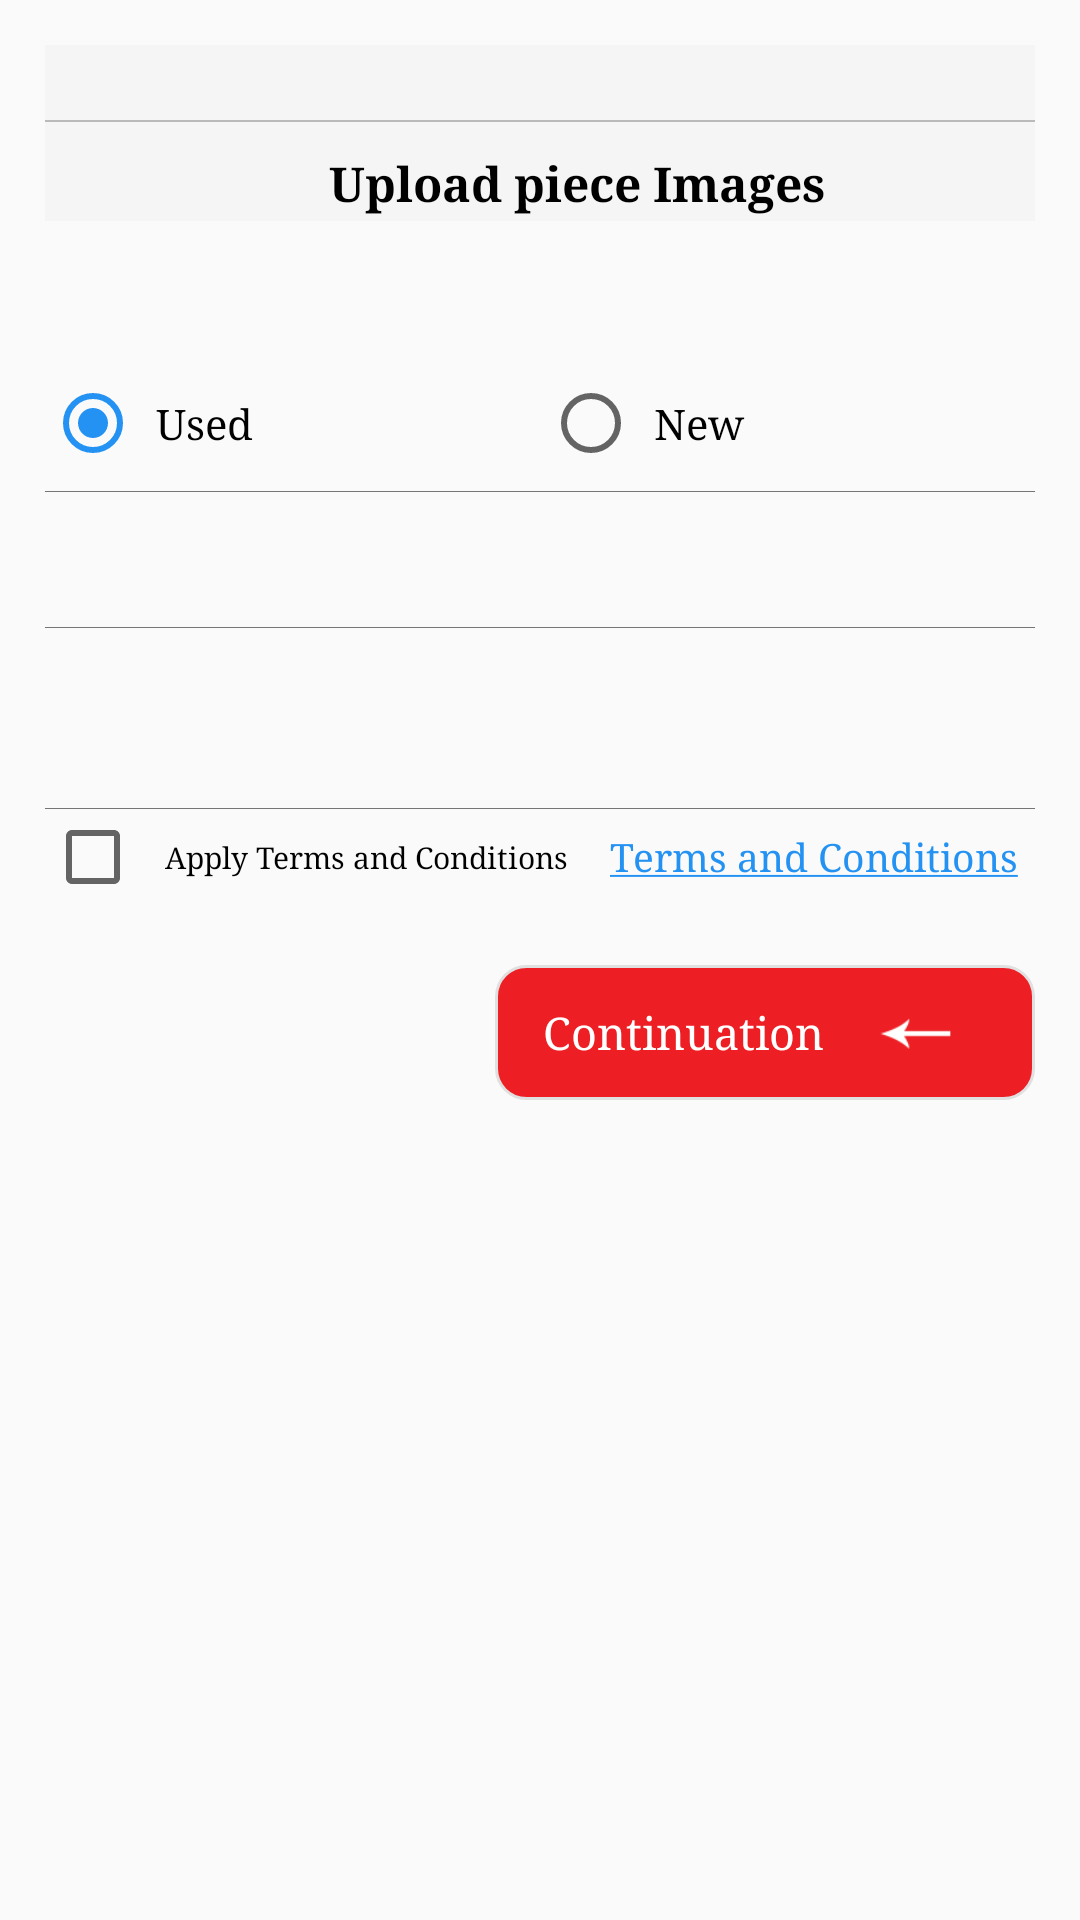

Where to tap for icons on this 1080 x 1920 app screen, as point (x, y):
arrowcontinue: point (915, 1032)
